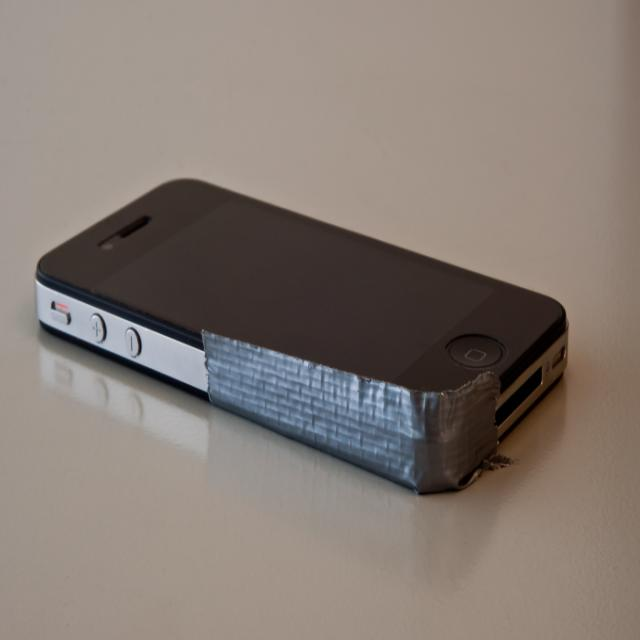Mobile-phone: (0, 184, 564, 493)
